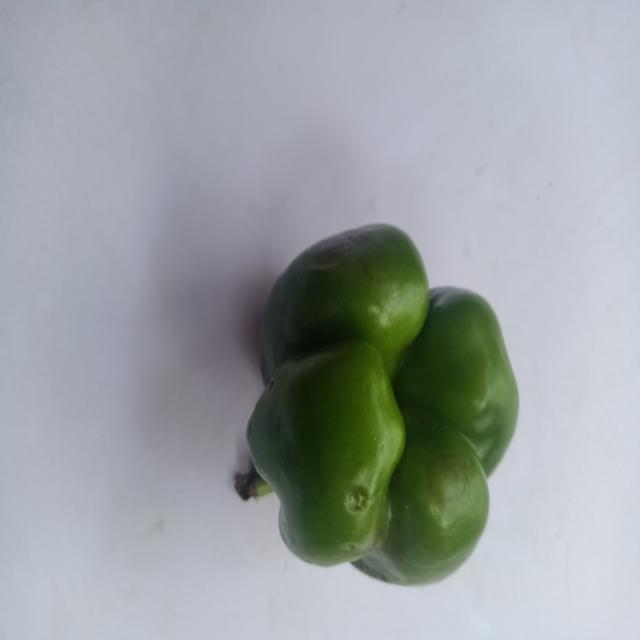Capsicum: (218, 199, 533, 611)
